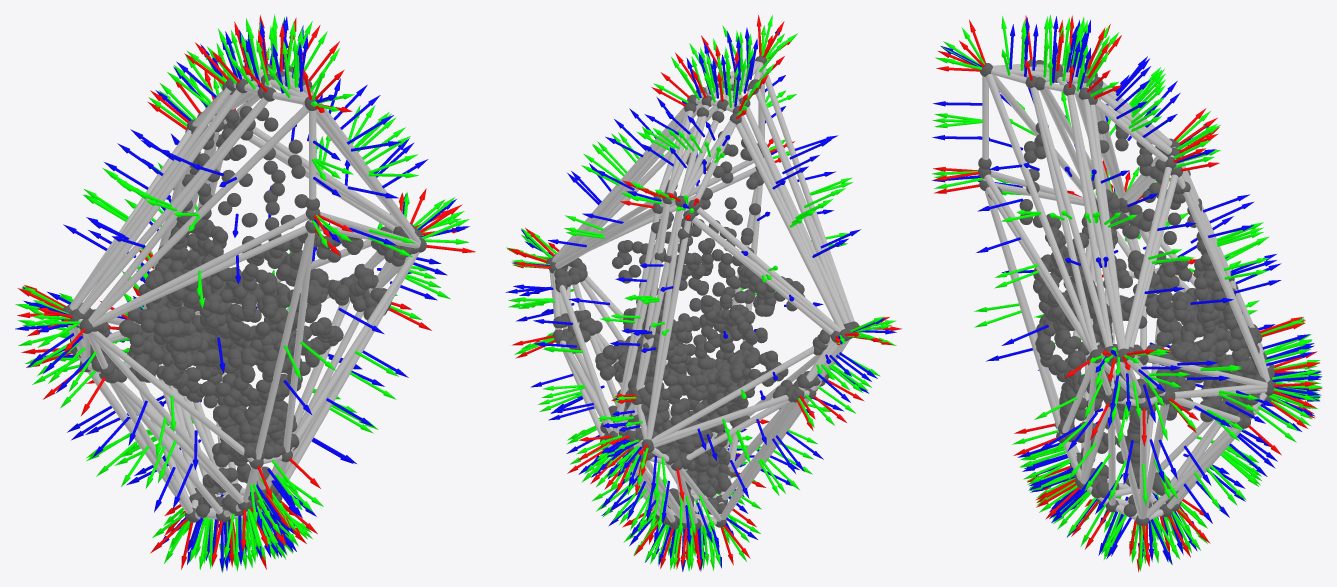
File: robbins_spaceship.gltf
3 views of the same model, side by side, from view 1: azimuth 30°, elevation 25°; view 2: azimuth 150°, elevation 25°; view 3: azimuth 270°, elevation 25° (orthographic). The views are drawn at different scales.
Size of the model in its own units: 0.707 by 0.8778 by 0.584.
